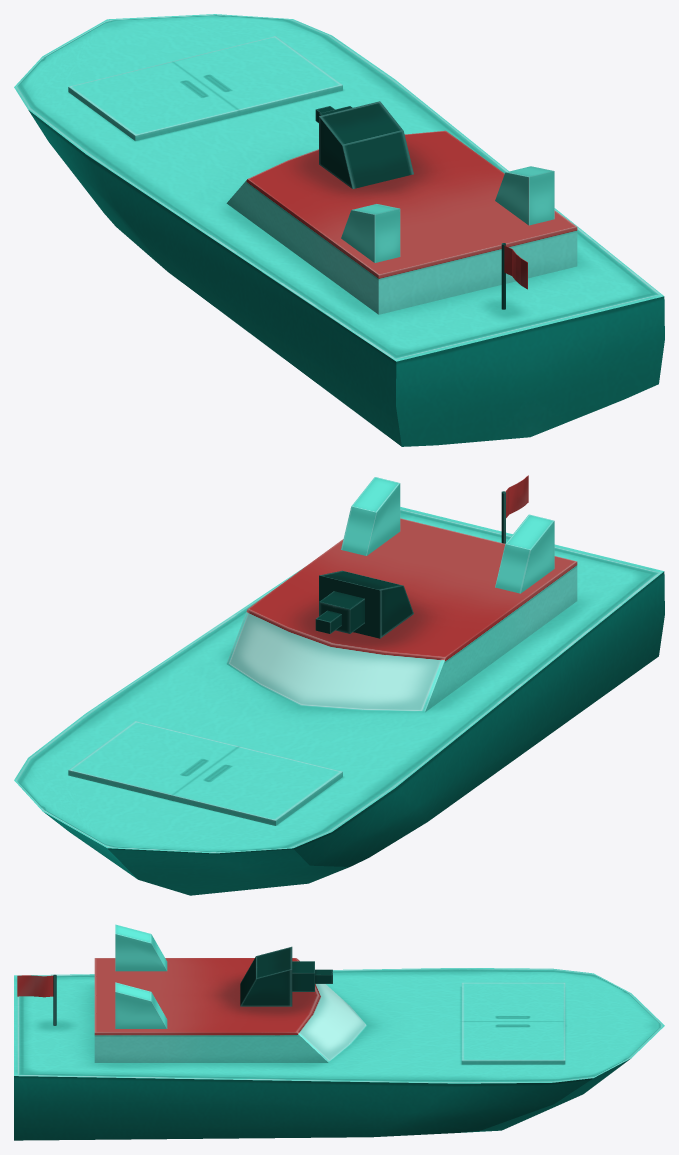
File: MD_boat.fbx
The picture shows the model from 3 angles, top to bottom: view 1: azimuth 30°, elevation 25°; view 2: azimuth 150°, elevation 25°; view 3: azimuth 270°, elevation 25°; orthographic projection. The views are drawn at different scales.
Visible parts, largest first — view 1: body; view 2: body; view 3: body.
Part boxes in pixels (<box>): body: <box>14,14,664,446</box>; body: <box>14,475,664,895</box>; body: <box>14,924,664,1140</box>.
Size of the model in its own units: 9.55 by 5.8 by 22.68.
